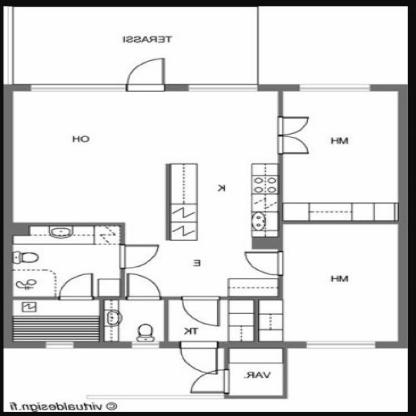door: (274, 115, 312, 160), (124, 58, 163, 96), (181, 340, 223, 374), (184, 294, 224, 328), (185, 368, 235, 392), (127, 269, 162, 301), (240, 251, 286, 274), (117, 244, 157, 270), (58, 272, 93, 298)
window: (305, 341, 372, 351), (190, 82, 254, 90), (37, 84, 124, 89), (295, 83, 365, 89), (48, 342, 72, 350), (128, 342, 154, 348)
zone: (14, 90, 277, 297), (2, 346, 413, 414), (7, 4, 258, 82), (286, 91, 395, 220), (259, 6, 408, 84), (9, 220, 123, 298), (167, 300, 250, 340), (13, 300, 98, 338), (223, 347, 283, 393), (104, 298, 163, 337)
